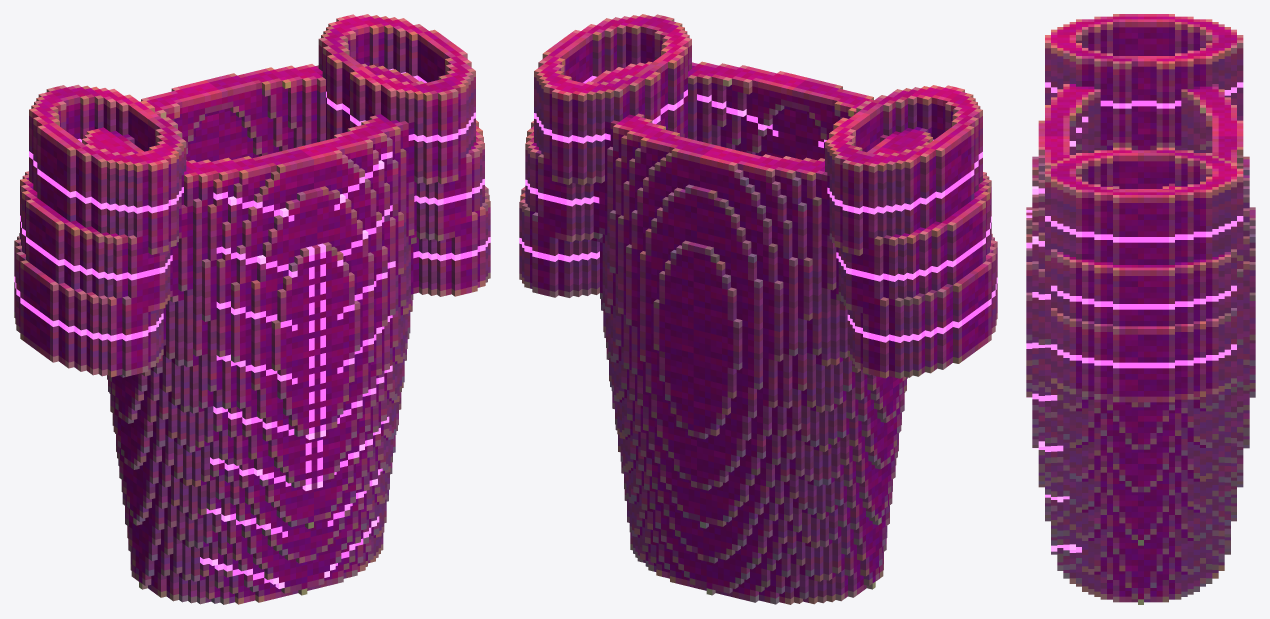
Rendered from armor_set2_chest.glb.
3 views of the same model, side by side, from view 1: azimuth 30°, elevation 25°; view 2: azimuth 150°, elevation 25°; view 3: azimuth 270°, elevation 25° (orthographic). The views are drawn at different scales.
Parts seen in each view (by area): view 1: Set2_AbyssalCarapaceChest_7mm; view 2: Set2_AbyssalCarapaceChest_7mm; view 3: Set2_AbyssalCarapaceChest_7mm.
Boxes of the visible parts, x1,y1,x2,y2 form: Set2_AbyssalCarapaceChest_7mm: (14,14,490,604); Set2_AbyssalCarapaceChest_7mm: (519,14,997,604); Set2_AbyssalCarapaceChest_7mm: (1026,14,1255,604).
Size of the model in its own units: 0.532 by 0.553 by 0.259.
